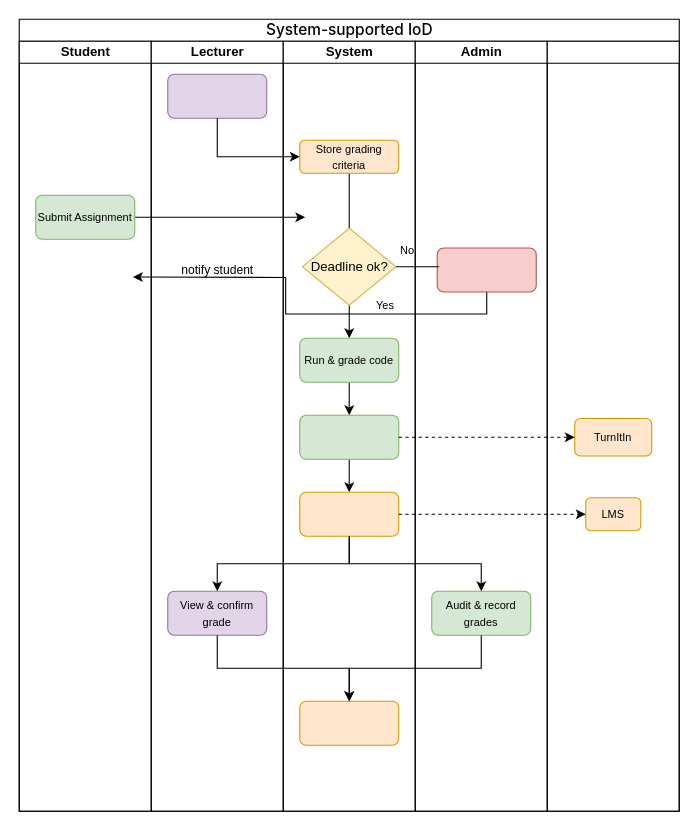
Some shapes in this 699 by 831 pixel diagram are drawn without their labels. The box of each missing label's shape, as (x1, y1, x2, y2) in pixels:
Check plagiarism: (299, 414, 399, 459)
End: (299, 700, 399, 745)
LMS/TurnItIn: (546, 40, 679, 811)
Reject Submission: (436, 247, 536, 292)
Set grading criteria: (167, 73, 267, 118)
Store results: (299, 491, 399, 536)
